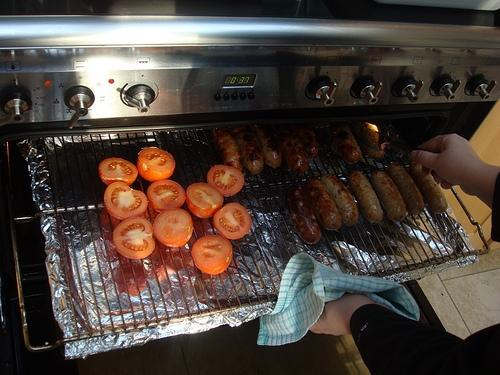tomato: (113, 216, 155, 260), (104, 182, 148, 221), (152, 208, 193, 248), (193, 235, 232, 274), (213, 202, 252, 240), (186, 182, 224, 219), (136, 148, 176, 182), (147, 180, 186, 212), (114, 262, 150, 296), (207, 164, 244, 196), (99, 158, 138, 186)
